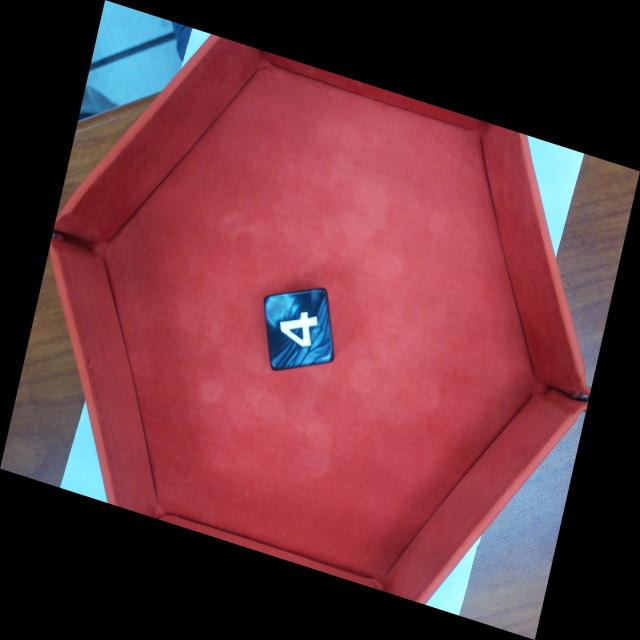dice: (266, 287, 335, 371)
